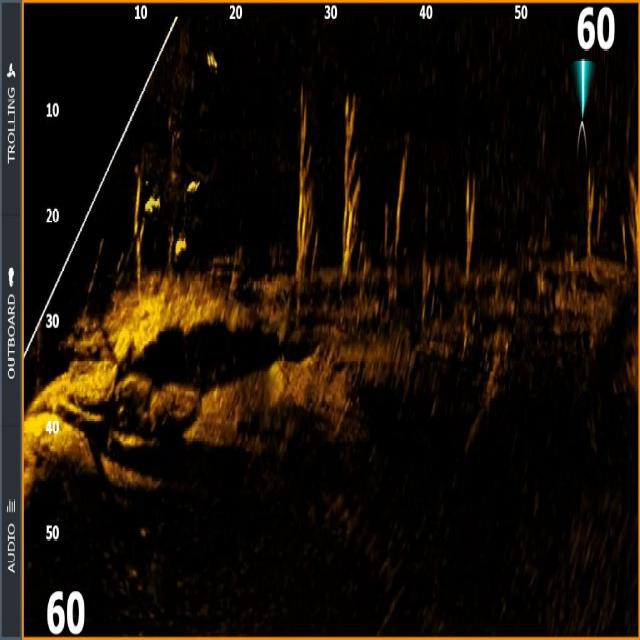fish: (203, 46, 217, 74), (144, 191, 161, 212), (174, 233, 186, 259), (184, 177, 200, 194)
